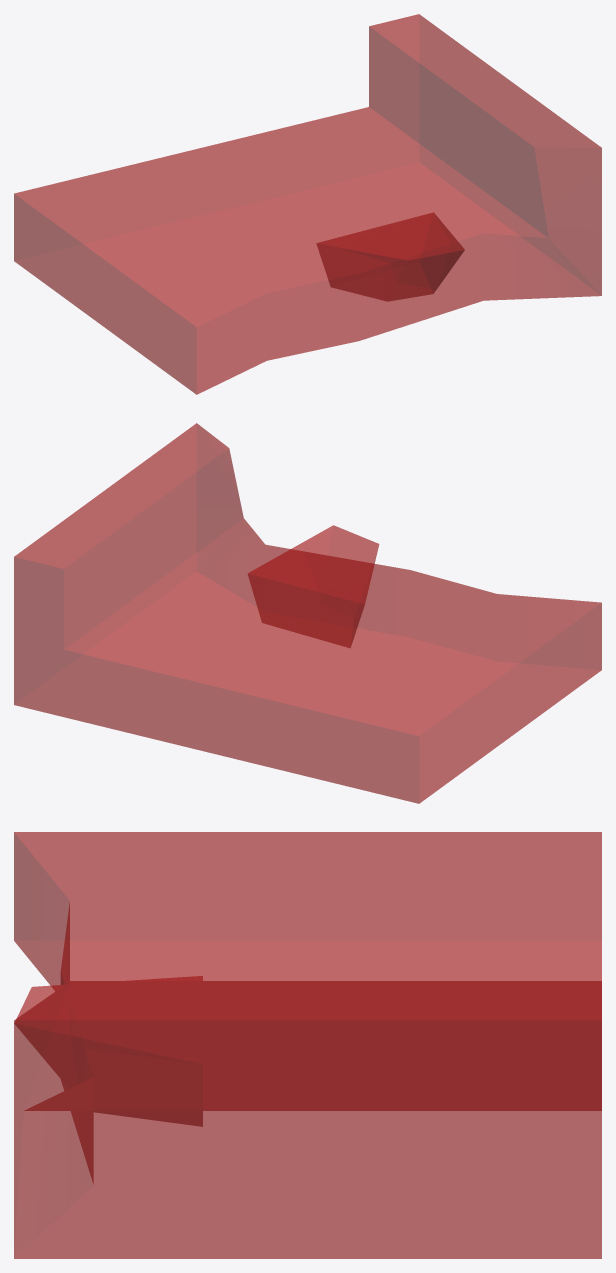
File: SM_Env_Motorway_Edge_Destroyed_02_Collision.fbx
3 views of the same model, one above another, from view 1: azimuth 30°, elevation 25°; view 2: azimuth 150°, elevation 25°; view 3: azimuth 270°, elevation 25° (orthographic). The views are drawn at different scales.
Visible parts, largest first — view 1: SM_Env_Motorway_Edge_Destroyed_02_Collision; view 2: SM_Env_Motorway_Edge_Destroyed_02_Collision; view 3: SM_Env_Motorway_Edge_Destroyed_02_Collision.
Boxes of the visible parts, x1,y1,x2,y2 form: SM_Env_Motorway_Edge_Destroyed_02_Collision: (14,14,601,394); SM_Env_Motorway_Edge_Destroyed_02_Collision: (14,423,601,803); SM_Env_Motorway_Edge_Destroyed_02_Collision: (14,832,601,1258).
Bounding box in the file's own units: 640 × 224 × 500.
